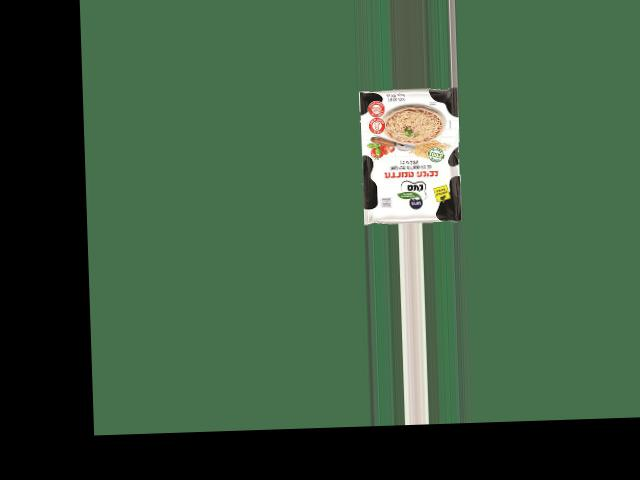cheese: (342, 93, 464, 215)
